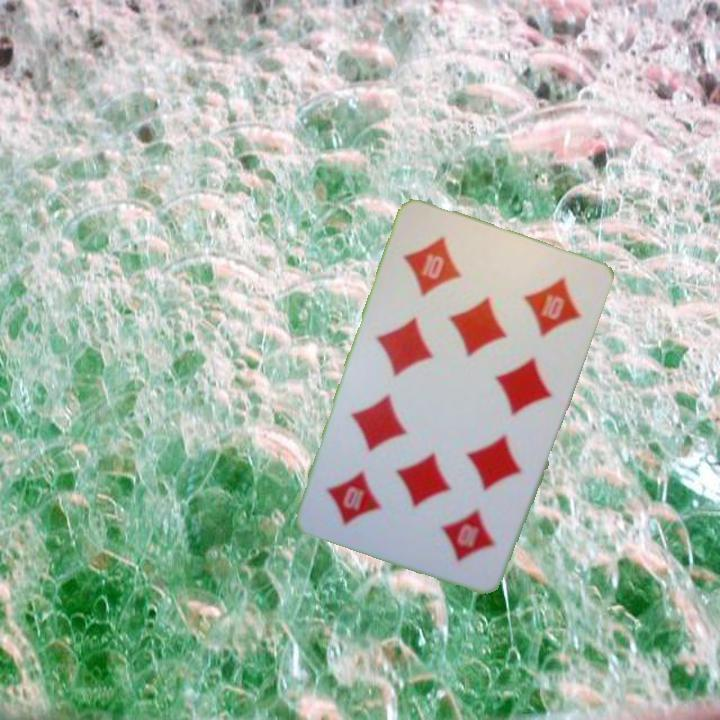d_10.png: (397, 468, 518, 581), (386, 214, 507, 327)
